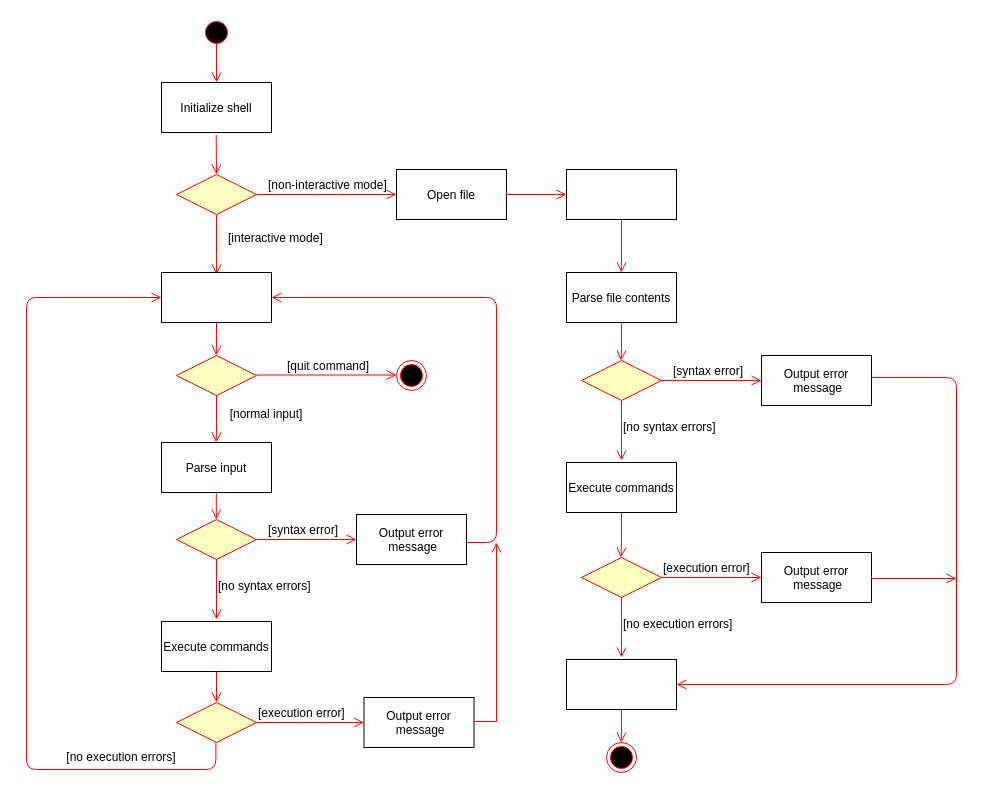
This 984x797 diagram has some shape labels left out. Here are the shapes that lost their labels. From the top down, the centre of each, then its label:
At pixel 621 194: "Read file".
At pixel 216 297: "Read user input".
At pixel 621 684: "Close file".
